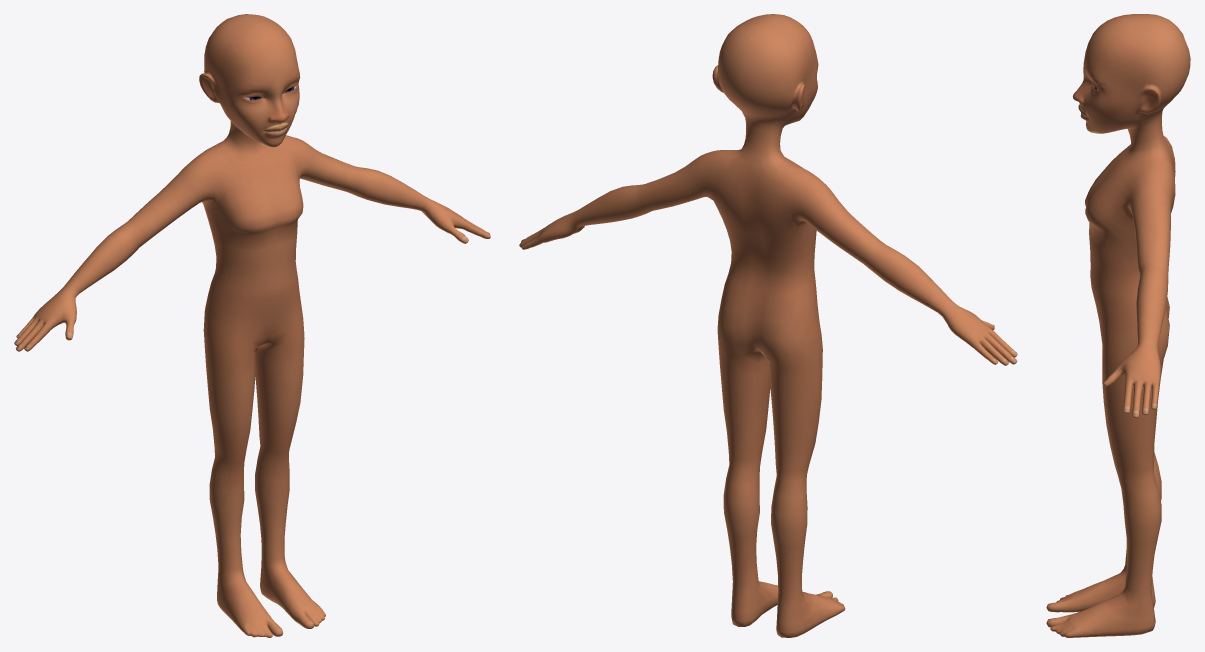
The model's file is frame_0046.glb.
3 views of the same model, side by side, from view 1: azimuth 30°, elevation 25°; view 2: azimuth 150°, elevation 25°; view 3: azimuth 270°, elevation 25° (orthographic). The views are drawn at different scales.
Visible parts, largest first — view 1: frame_0046_head_geo; view 2: frame_0046_head_geo; view 3: frame_0046_head_geo.
Boxes of the visible parts, bbox=[...] form: frame_0046_head_geo: bbox=[14, 14, 490, 637]; frame_0046_head_geo: bbox=[519, 14, 1017, 637]; frame_0046_head_geo: bbox=[1046, 14, 1190, 637].
Bounding box in the file's own units: 1.28 × 1.5 × 0.3253.
Materials: 3 (3 with a texture image).
